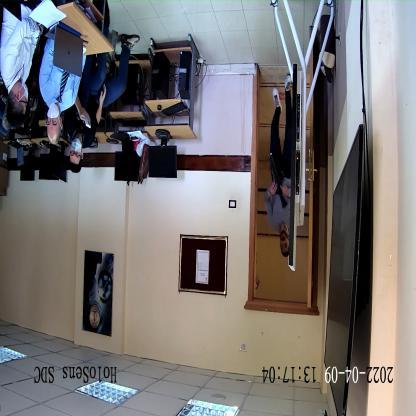handgun: (269, 155, 288, 210)
